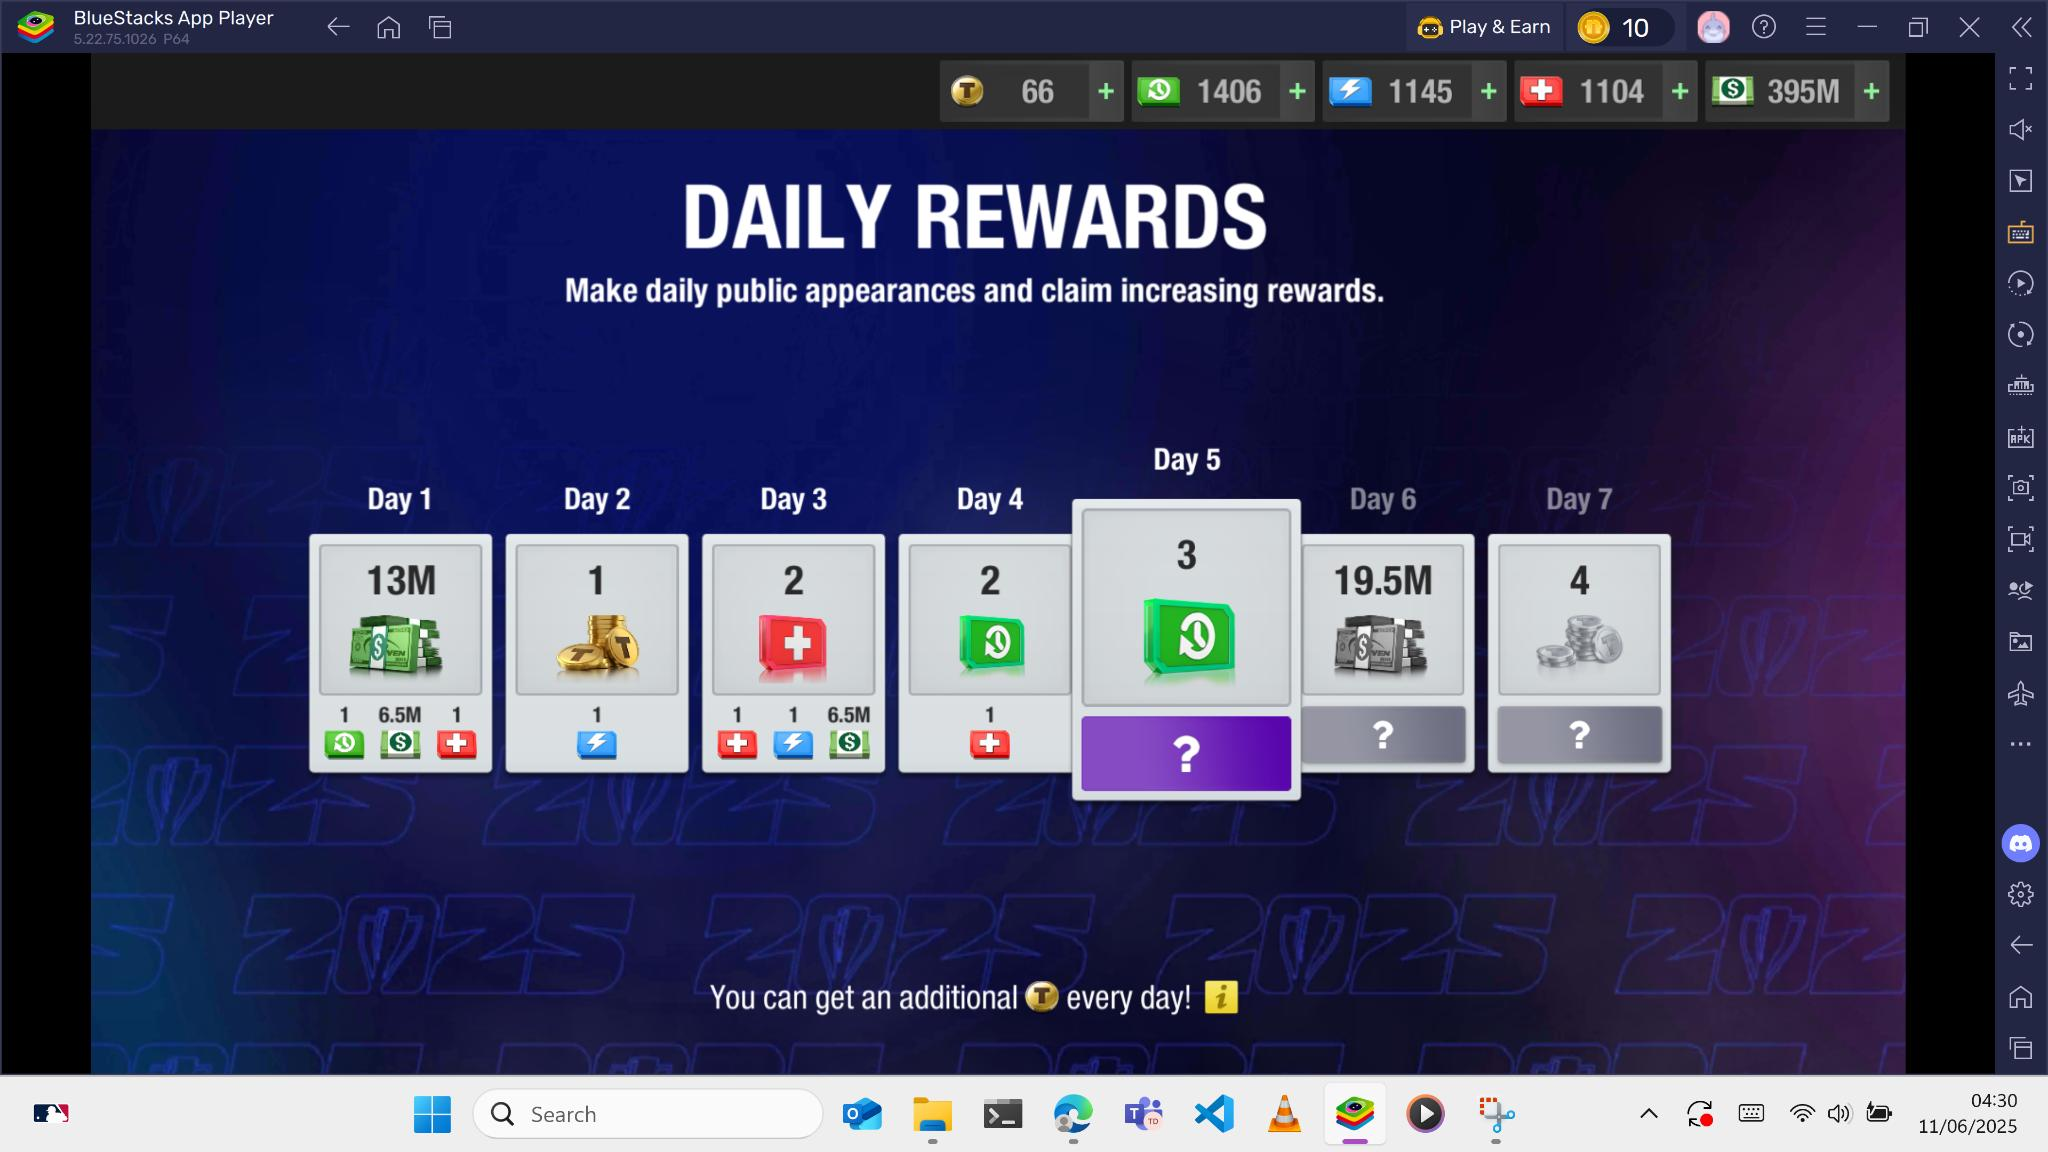daily_rewards_Question: (1081, 716, 1291, 792)
